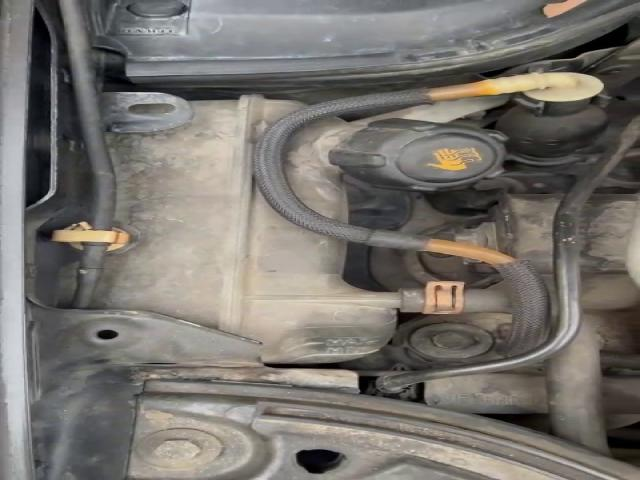antifreeze_tank: (99, 96, 406, 362), (287, 118, 506, 221)
